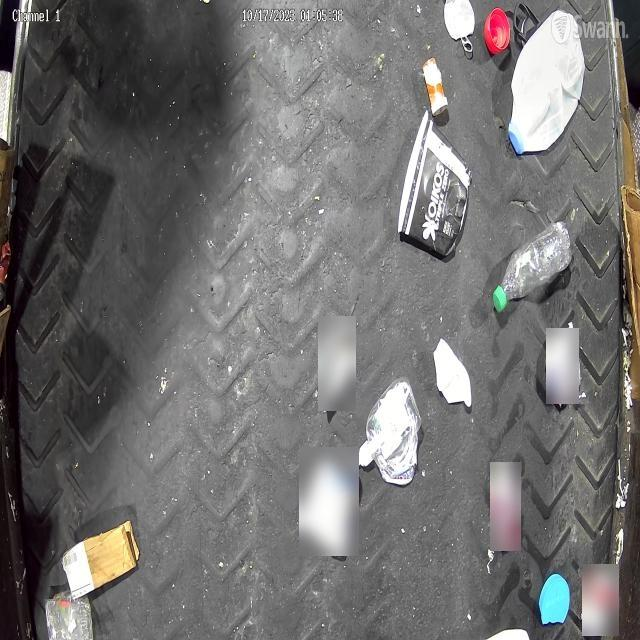milk_jug: (508, 10, 586, 153)
plastic_bottle: (492, 220, 571, 312)
